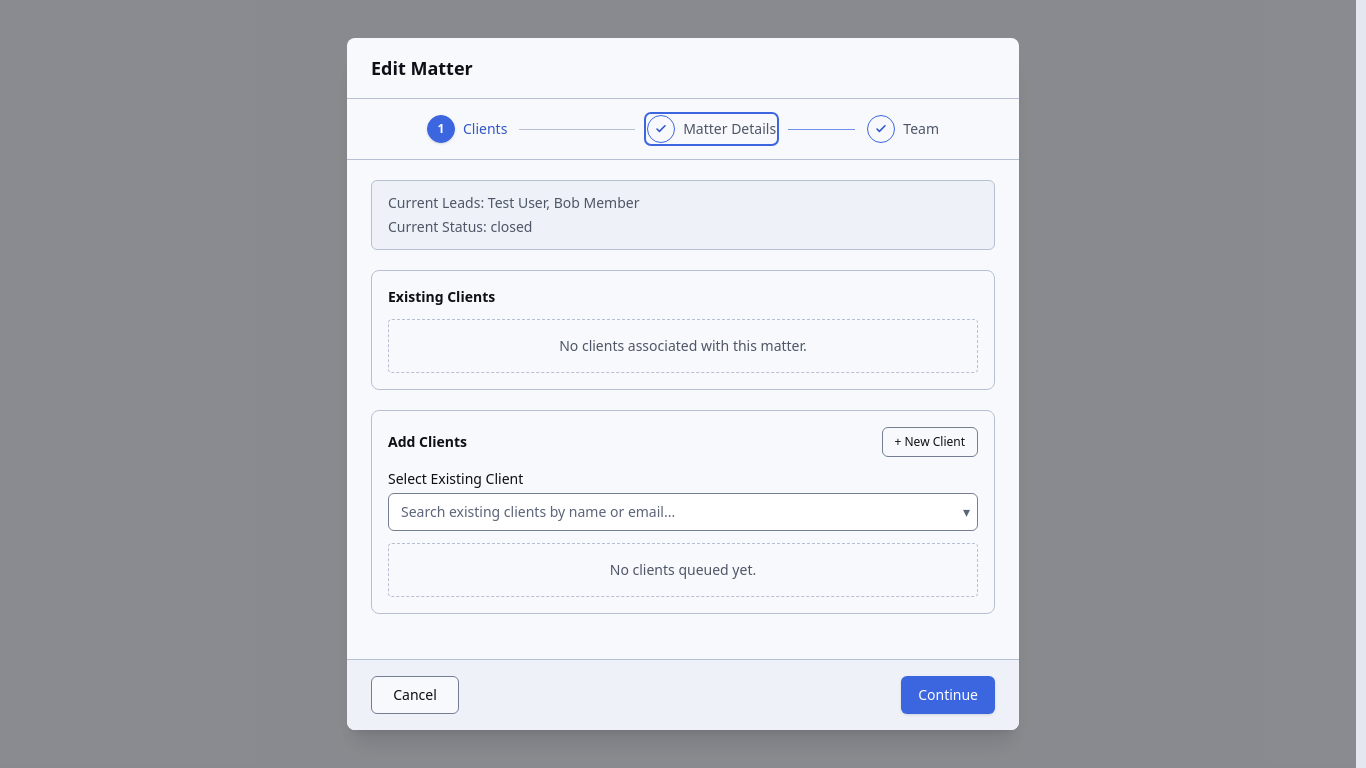
Scenario: queued new-client validation › blocks save when a queued client's email is malformed
The image size is (1366, 768).
Click the button "+ New Client" at (930, 442), box left=882, top=427, right=978, bottom=457
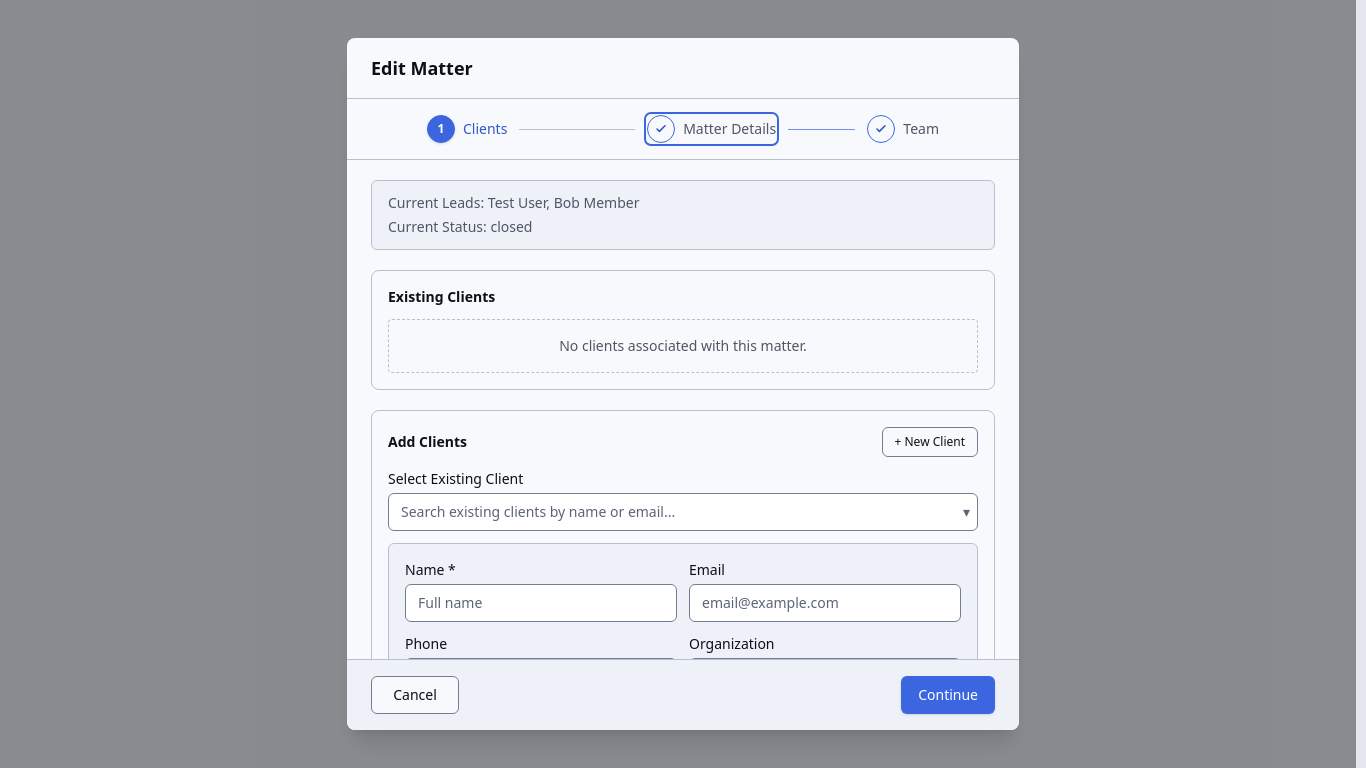
Type "Jane Client" into the field with placeholder "Full name" at (541, 603), box left=405, top=584, right=677, bottom=622
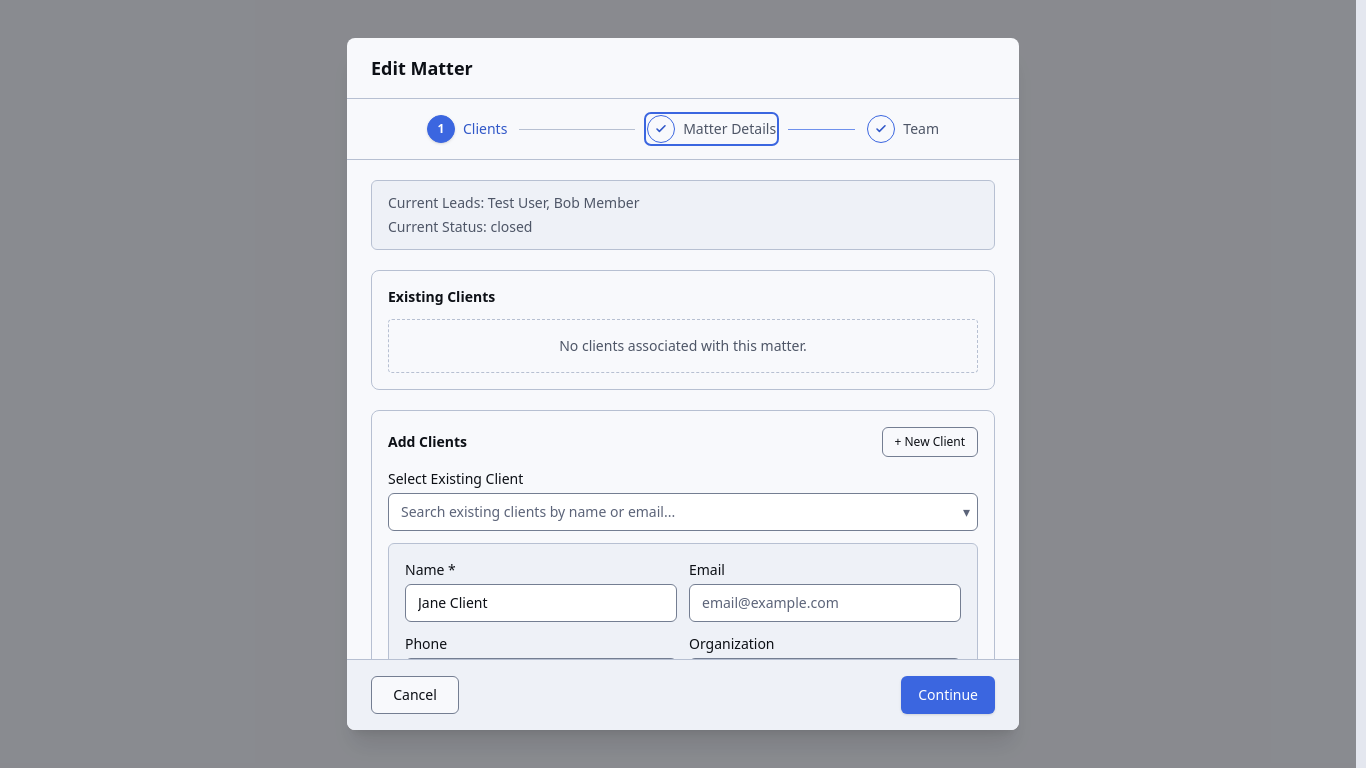
Type "not-an-email" into the field with placeholder "email@example.com" at (825, 603), box left=689, top=584, right=961, bottom=622
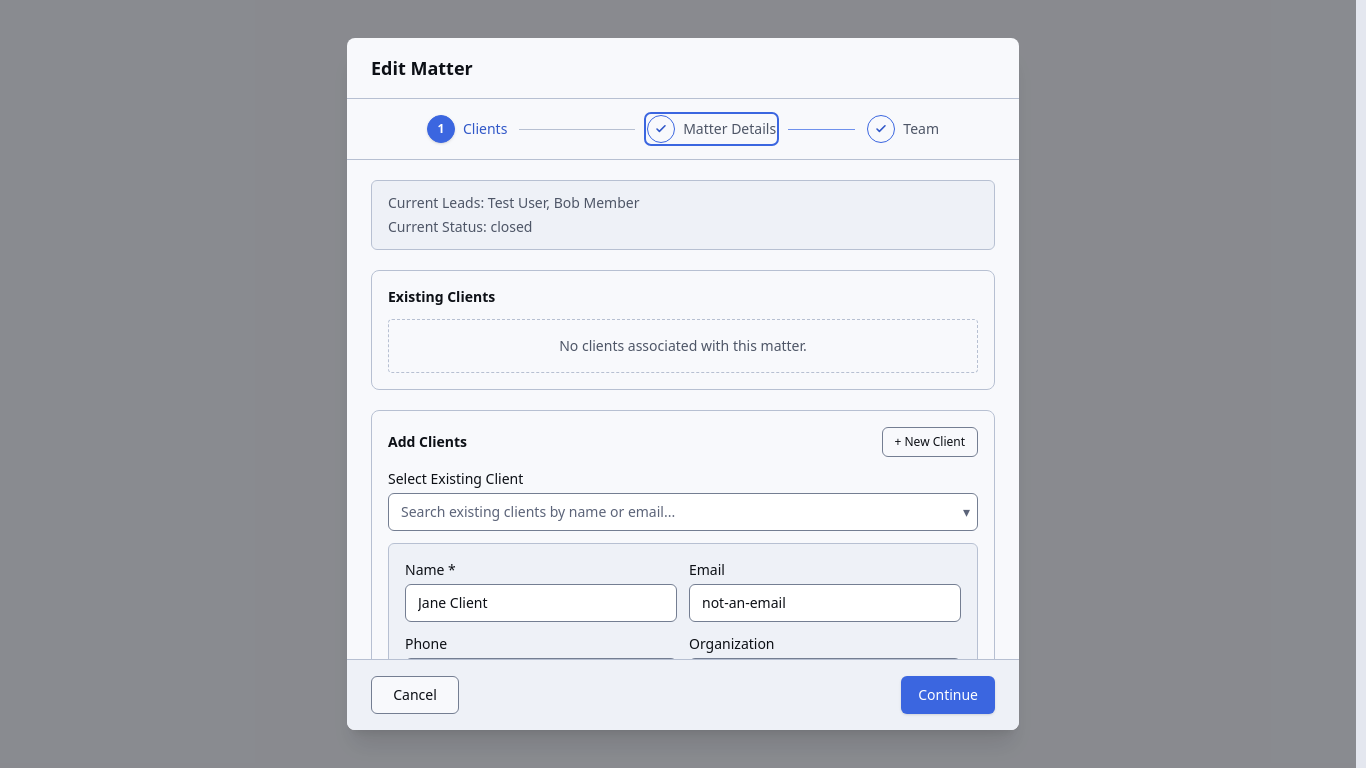
Click the button with aria-label "Team," at (903, 129), box left=867, top=115, right=939, bottom=143
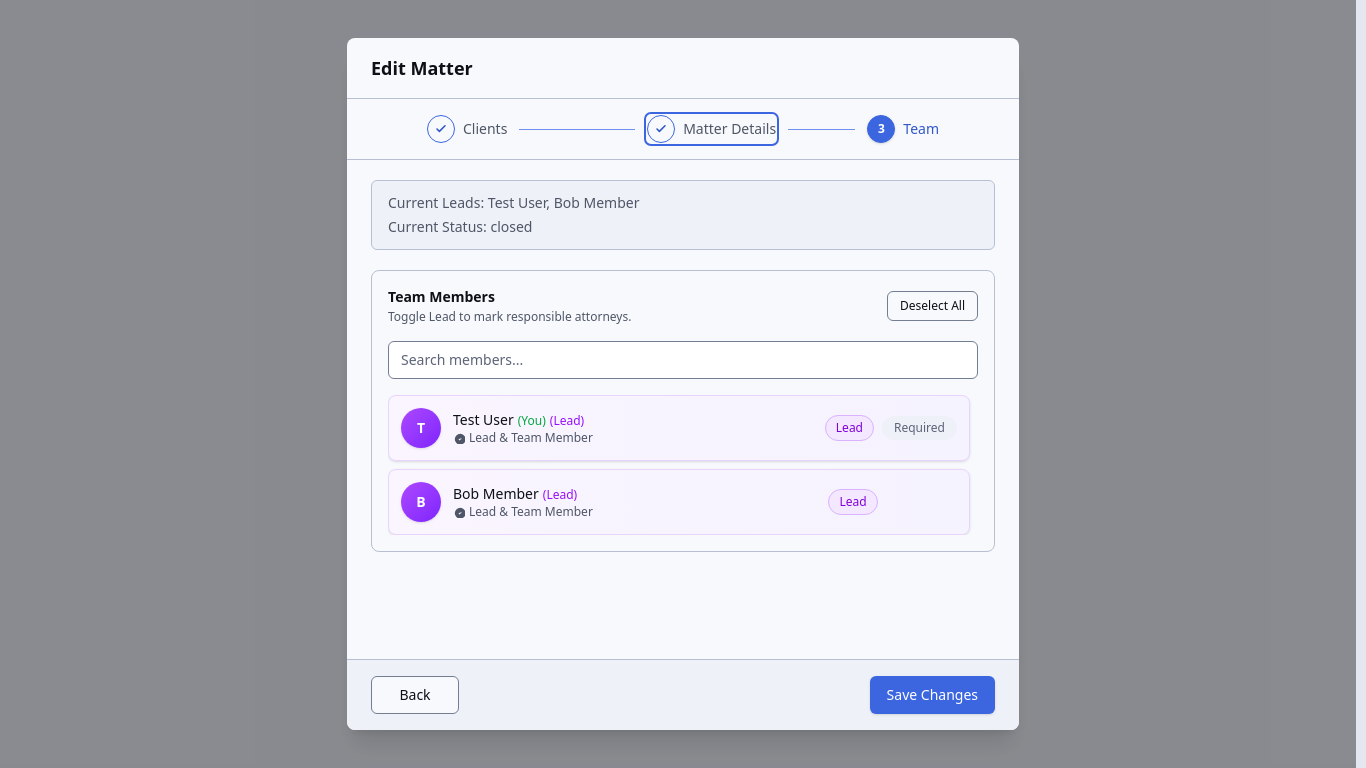
Click the button "Save Changes" at (932, 695), box left=870, top=676, right=995, bottom=714
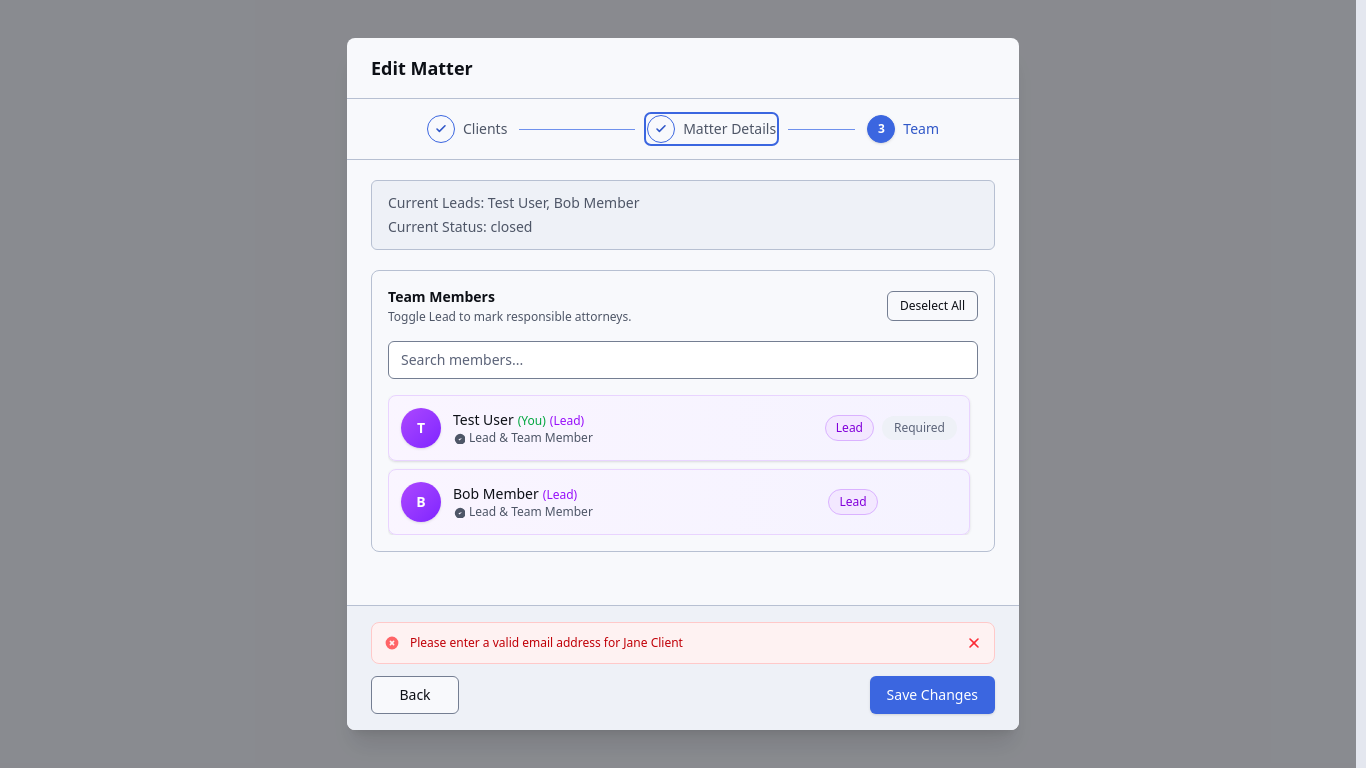
Result: the text "Please enter a valid email address for Jane Client" is shown at left=410, top=634, right=683, bottom=651
